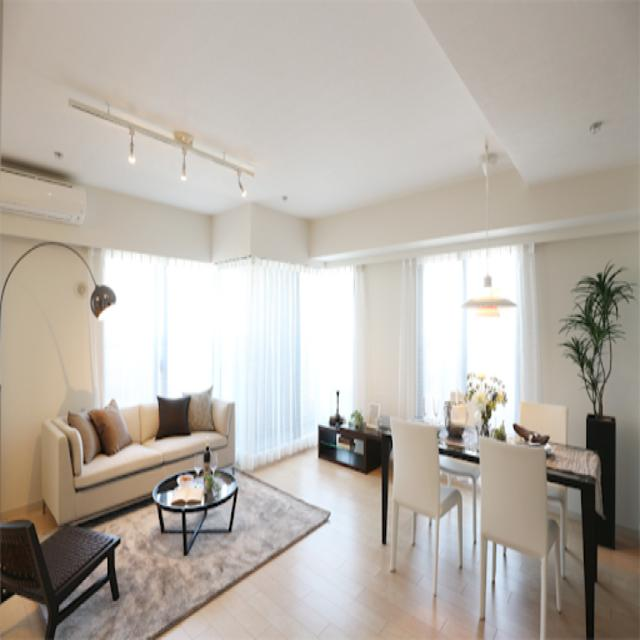white chair: (473, 442, 562, 634), (388, 425, 459, 575)
